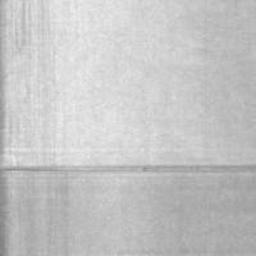Welding line: (0, 164, 256, 174)
